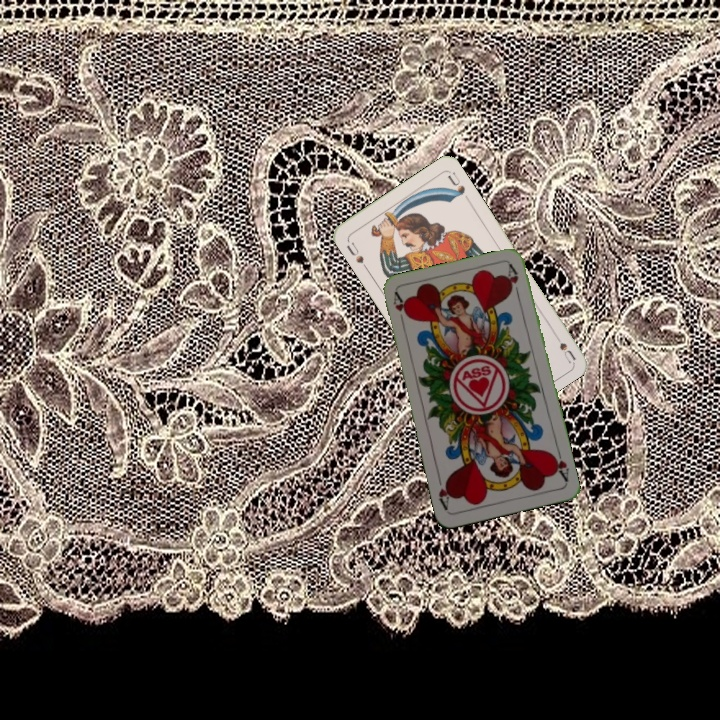HA: (547, 445, 572, 485), (389, 289, 412, 329)
SU: (548, 327, 578, 365), (342, 238, 370, 272)
